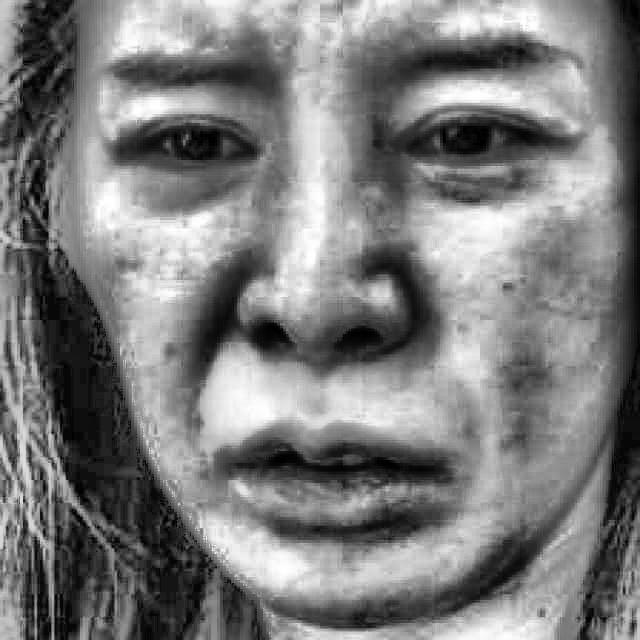fear: (110, 30, 575, 582)
